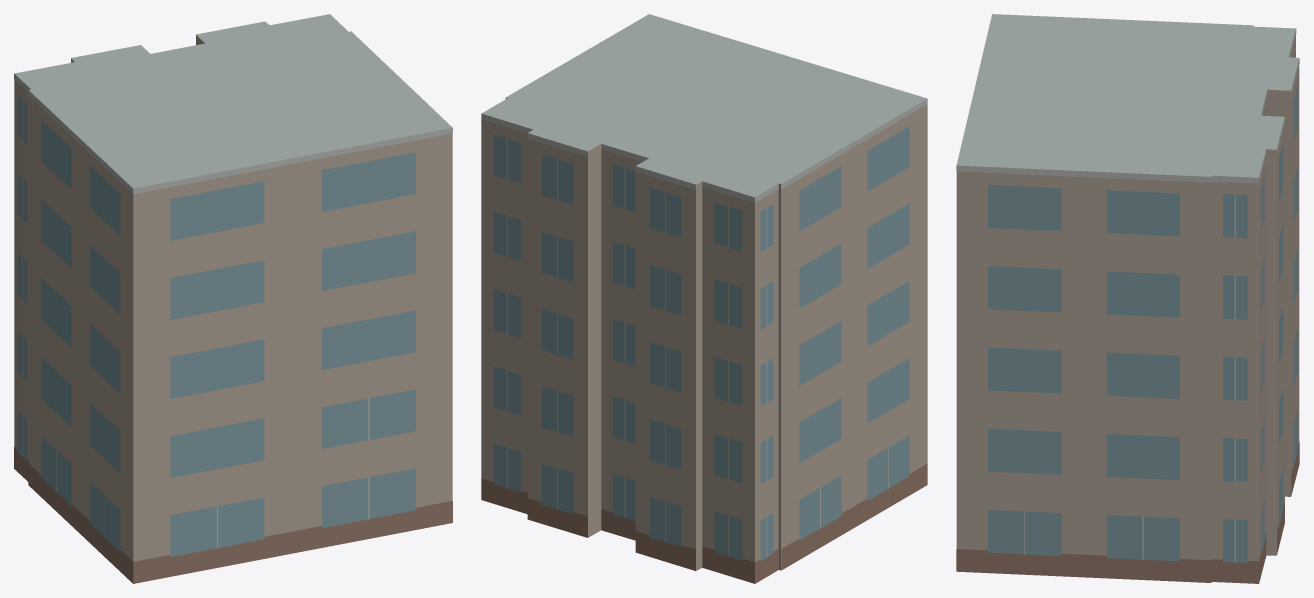
File: survey-upis-32671736.glb
The picture shows the model from 3 angles, left to right: view 1: azimuth 30°, elevation 25°; view 2: azimuth 150°, elevation 25°; view 3: azimuth 270°, elevation 25°; orthographic projection. The views are drawn at different scales.
Parts seen in each view (by area): view 1: survey-upis-32671736.tmp; view 2: survey-upis-32671736.tmp; view 3: survey-upis-32671736.tmp.
Part boxes in pixels (x1,y1,x2,y2): survey-upis-32671736.tmp: (14,14,452,583); survey-upis-32671736.tmp: (481,14,927,583); survey-upis-32671736.tmp: (956,14,1299,583).
Bounding box in the file's own units: 14.71 × 17 × 13.02.
